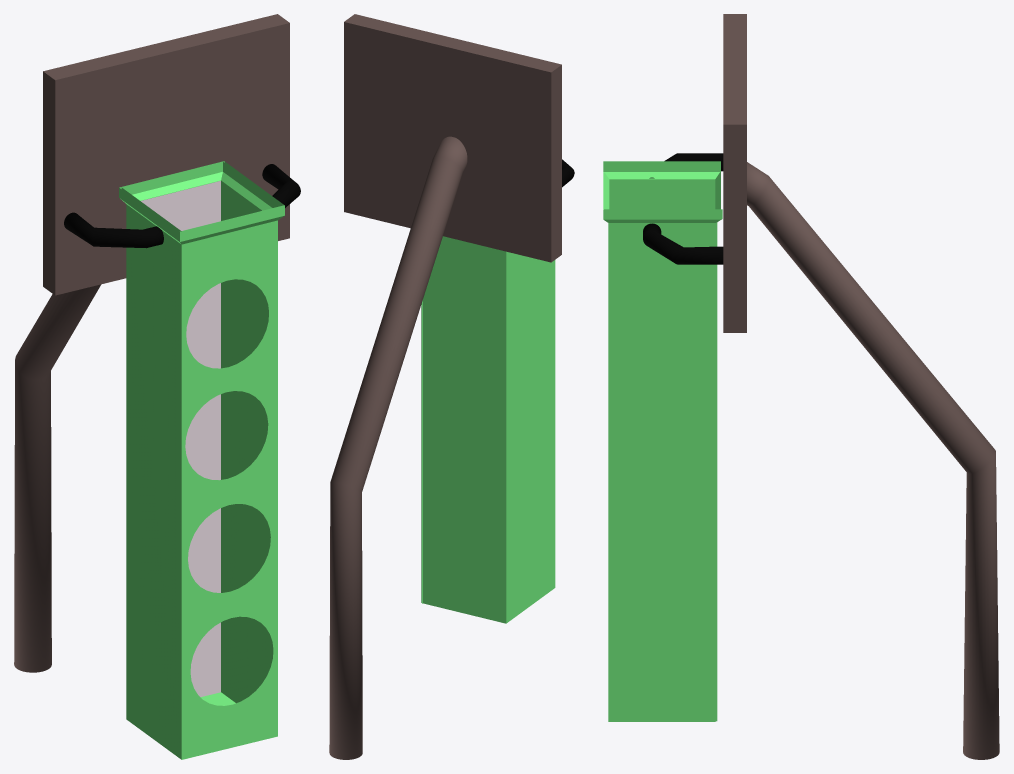
The model's file is Main_basket_5.fbx.
The picture shows the model from 3 angles, left to right: view 1: azimuth 30°, elevation 25°; view 2: azimuth 150°, elevation 25°; view 3: azimuth 270°, elevation 25°; orthographic projection. The views are drawn at different scales.
Parts seen in each view (by area): view 1: Cylinder.001, Cylinder.004, Cylinder.003, Cylinder.006, Cylinder.005, Cylinder.002; view 2: Cylinder.001, Cylinder.004, Cylinder.003; view 3: Cylinder.001, Cylinder.003, Cylinder.004, Cylinder.002.
Part boxes in pixels (x1,y1,x2,y2): Cylinder.001: [119, 161, 284, 759]; Cylinder.004: [43, 14, 289, 295]; Cylinder.003: [14, 284, 101, 672]; Cylinder.006: [141, 181, 220, 697]; Cylinder.005: [64, 212, 163, 248]; Cylinder.002: [262, 164, 300, 207]; Cylinder.001: [421, 236, 555, 623]; Cylinder.004: [344, 14, 561, 262]; Cylinder.003: [329, 136, 467, 759]; Cylinder.001: [603, 161, 722, 721]; Cylinder.003: [747, 162, 999, 759]; Cylinder.004: [723, 14, 746, 332]; Cylinder.002: [643, 223, 723, 264].
Bounding box in the file's own units: 5718 × 16503 × 8640.
